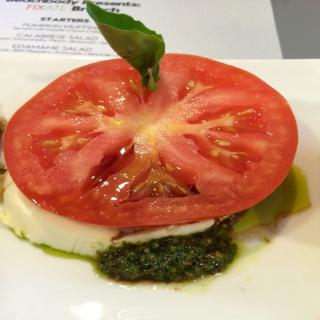tomato: (1, 52, 297, 236)
